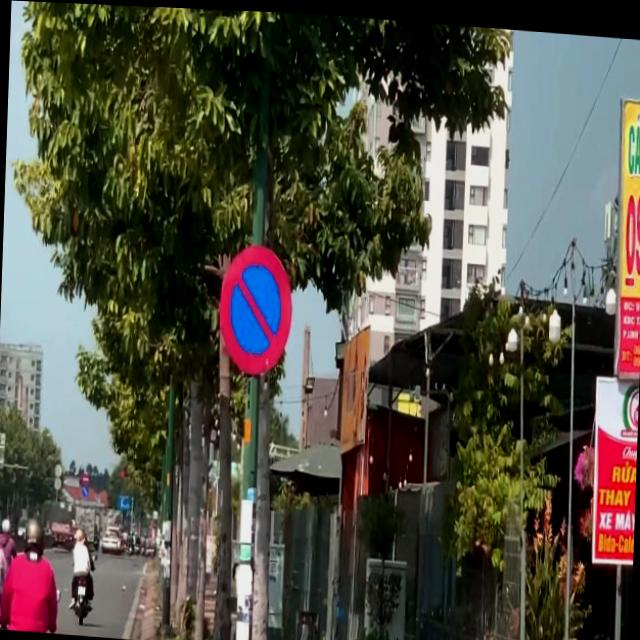Cam di nguoc chieu: (81, 471, 90, 486)
Cam do xe: (212, 232, 300, 390)
Vong chuong ngai vat sang phai: (82, 486, 88, 496)
